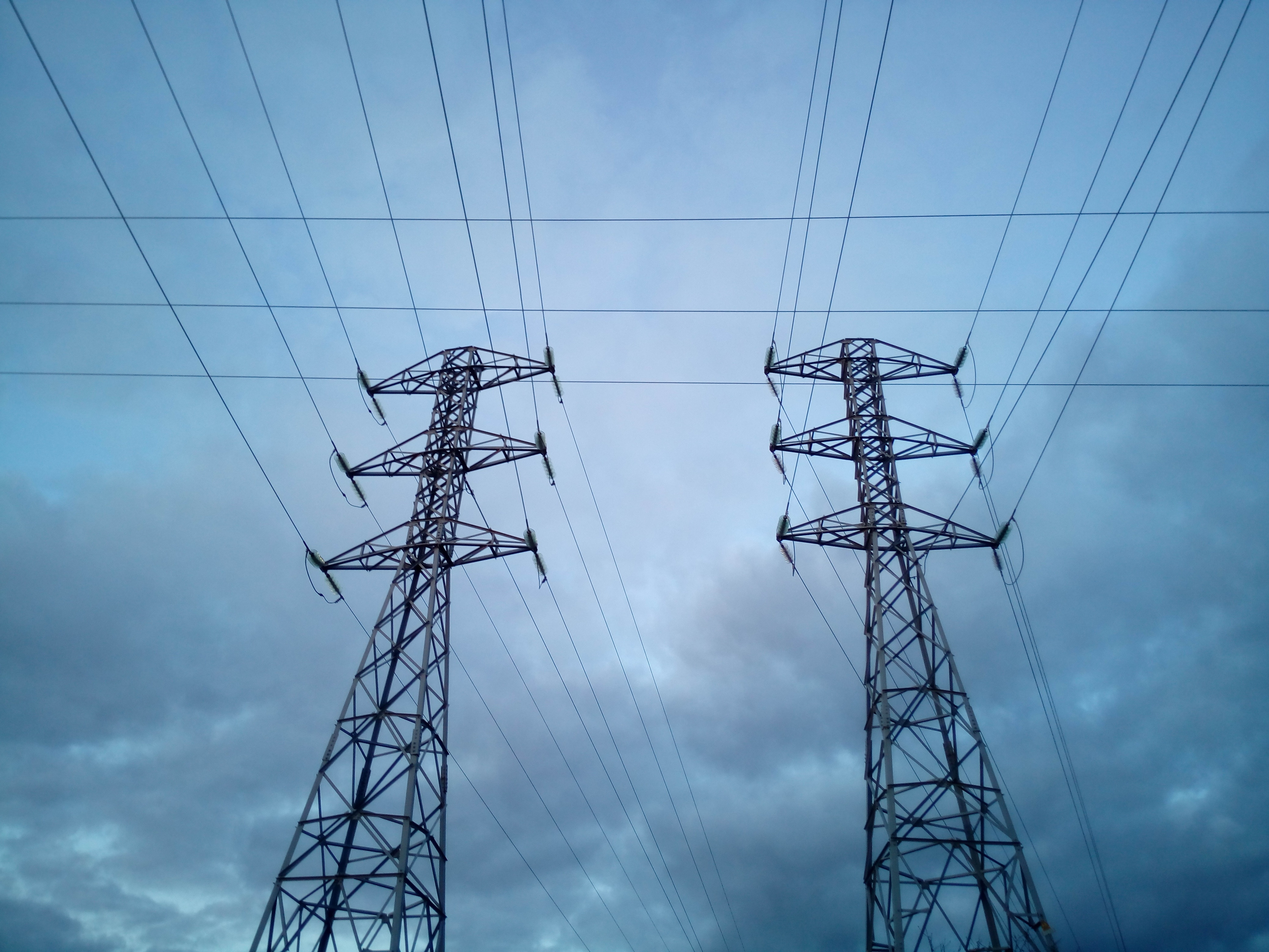insulator: (969, 417, 1003, 457), (947, 339, 981, 373), (302, 546, 331, 579), (346, 364, 374, 395), (992, 516, 1020, 546), (519, 525, 546, 556), (767, 416, 789, 452), (757, 345, 784, 374), (326, 449, 351, 477), (540, 345, 559, 380), (533, 426, 552, 456), (775, 514, 795, 542)
